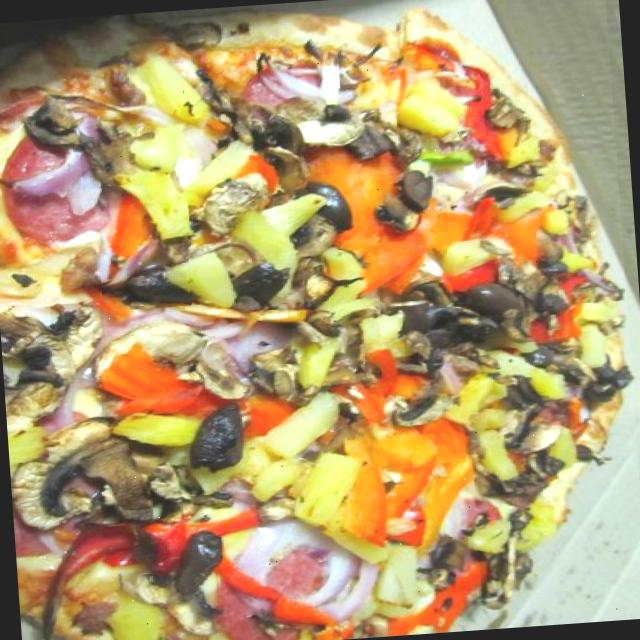mushrooms: (400, 275, 565, 363), (74, 431, 220, 524), (8, 429, 126, 534), (198, 65, 302, 162), (144, 316, 248, 398), (116, 565, 221, 640), (0, 313, 74, 416), (276, 86, 371, 158), (98, 238, 190, 310), (476, 506, 540, 602), (472, 448, 571, 507), (286, 212, 342, 309), (78, 115, 152, 188), (545, 343, 634, 402), (184, 406, 252, 481), (375, 168, 446, 235), (49, 300, 106, 380), (492, 370, 550, 448), (229, 259, 302, 320), (16, 96, 88, 154), (186, 178, 268, 228), (244, 337, 308, 401), (258, 122, 318, 189), (298, 171, 359, 232), (351, 110, 430, 157), (332, 313, 381, 388), (380, 386, 446, 436), (174, 536, 224, 602), (424, 534, 470, 592), (482, 81, 529, 135), (472, 175, 530, 210), (173, 20, 219, 53)
pizza: (0, 8, 631, 640)
